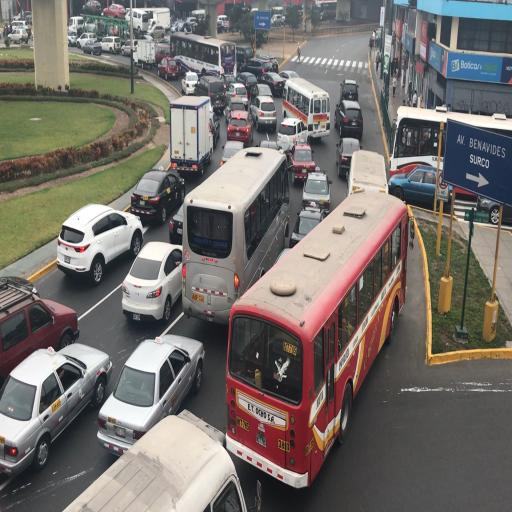auto: (55, 410, 240, 510), (0, 344, 112, 480), (97, 332, 206, 452), (1, 276, 77, 400), (56, 198, 143, 280), (120, 241, 187, 323), (129, 168, 184, 226), (388, 162, 451, 210), (288, 204, 326, 247), (301, 168, 331, 214), (288, 140, 318, 184), (277, 115, 308, 156), (196, 74, 226, 116), (334, 98, 361, 140), (250, 89, 276, 130), (226, 108, 252, 148), (336, 136, 360, 178), (225, 93, 248, 126), (234, 70, 259, 100), (257, 138, 285, 164), (259, 71, 285, 97), (221, 138, 246, 164), (243, 57, 269, 80), (158, 55, 178, 80), (257, 52, 280, 73), (340, 78, 359, 103), (181, 71, 199, 95), (154, 42, 172, 65), (81, 38, 102, 56), (103, 2, 126, 18), (278, 69, 298, 87), (100, 36, 121, 53), (7, 28, 29, 44), (146, 24, 166, 41), (121, 38, 138, 57), (82, 0, 102, 15), (83, 16, 98, 36), (180, 17, 198, 32), (108, 22, 124, 36), (170, 18, 185, 32), (95, 20, 107, 37), (67, 32, 79, 47), (270, 14, 283, 27), (217, 14, 229, 26), (222, 18, 232, 32), (280, 14, 290, 26), (24, 11, 32, 25), (12, 12, 22, 22)
bus: (228, 179, 394, 476), (388, 103, 510, 215), (281, 75, 329, 142), (172, 32, 229, 80), (346, 150, 386, 200), (126, 7, 151, 35), (234, 43, 256, 70), (314, 0, 337, 21), (271, 6, 284, 20)
camion: (168, 96, 214, 182), (132, 38, 155, 70)
